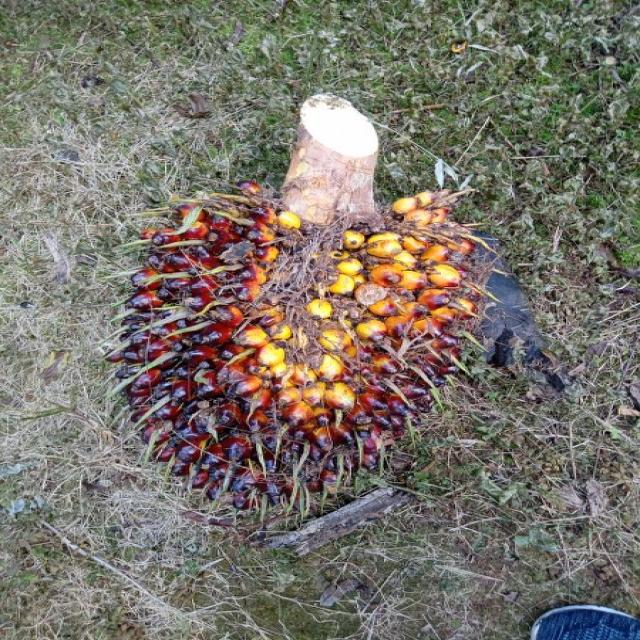fraksi 1: (54, 117, 534, 578)
